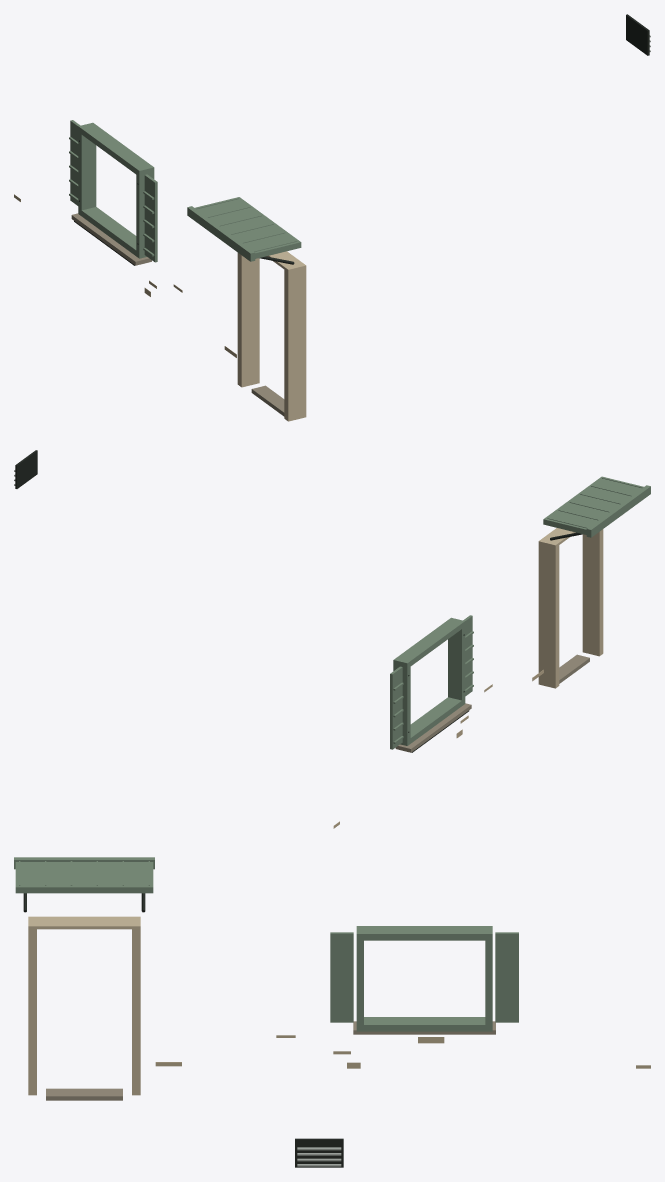
File: SM_Homes_H02_Fixtures_LOD1.fbx
The picture shows the model from 3 angles, top to bottom: view 1: azimuth 30°, elevation 25°; view 2: azimuth 150°, elevation 25°; view 3: azimuth 270°, elevation 25°; orthographic projection. The views are drawn at different scales.
Visible parts, largest first — view 1: SM_Homes_H02_Fixtures_LOD1; view 2: SM_Homes_H02_Fixtures_LOD1; view 3: SM_Homes_H02_Fixtures_LOD1.
Boxes of the visible parts, x1,y1,x2,y2 form: SM_Homes_H02_Fixtures_LOD1: (14,14,650,421); SM_Homes_H02_Fixtures_LOD1: (14,450,650,828); SM_Homes_H02_Fixtures_LOD1: (14,857,650,1167).
Bounding box in the file's own units: 8.37 × 7.87 × 2.88.
